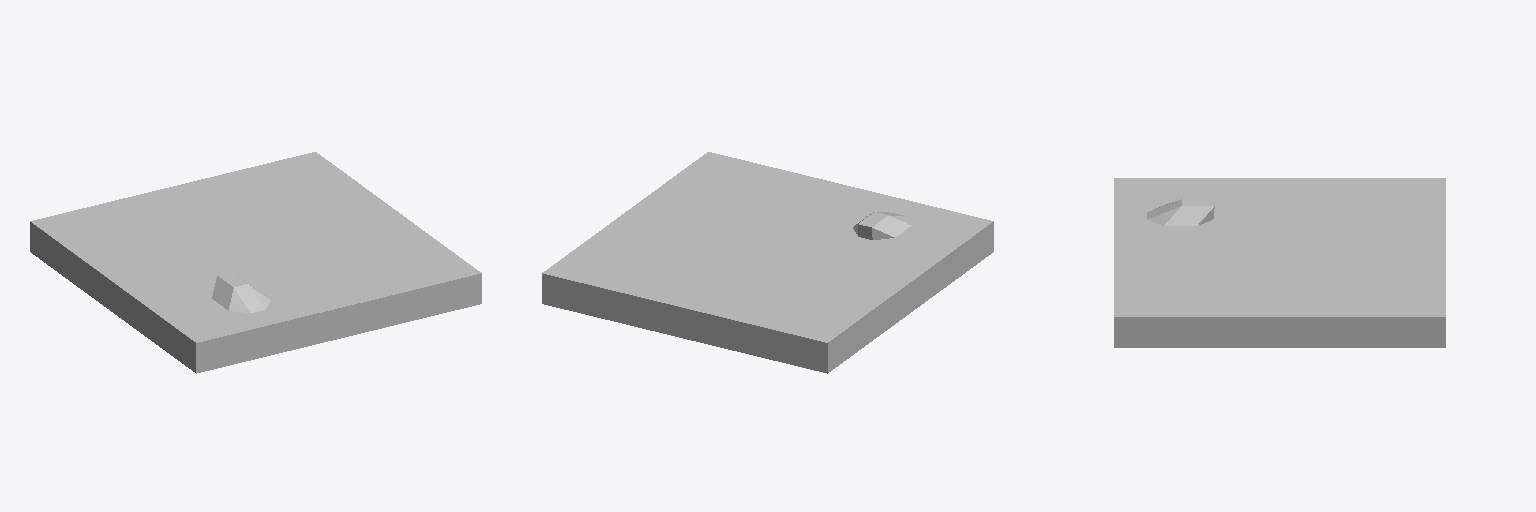
File: level.obj
3 views of the same model, side by side, from view 1: azimuth 30°, elevation 25°; view 2: azimuth 150°, elevation 25°; view 3: azimuth 270°, elevation 25° (orthographic).
Visible parts, largest first — view 1: pCube1; view 2: pCube1; view 3: pCube1.
Part boxes in pixels (x1,y1,x2,y2): pCube1: (30, 152, 481, 373); pCube1: (542, 152, 993, 373); pCube1: (1114, 178, 1445, 347).
Size of the model in its own units: 23.86 by 3.51 by 24.06.